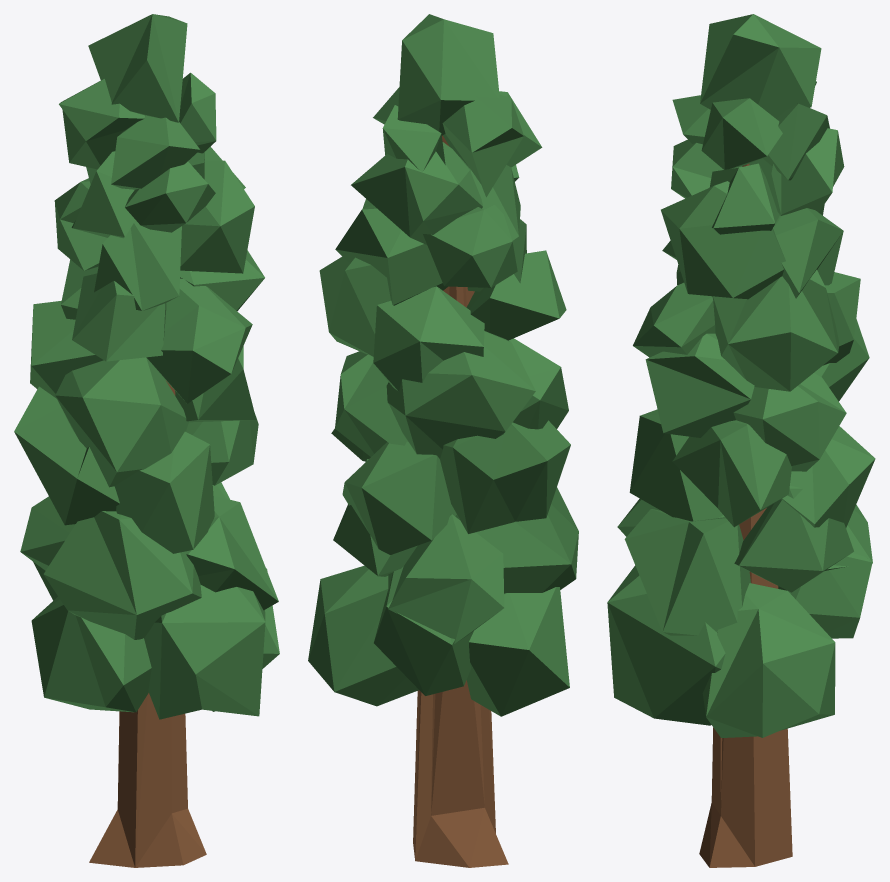
The model's file is tree_n2.glb.
The picture shows the model from 3 angles, left to right: view 1: azimuth 30°, elevation 25°; view 2: azimuth 150°, elevation 25°; view 3: azimuth 270°, elevation 25°; orthographic projection.
Parts seen in each view (by area): view 1: Object_34, Object_32; view 2: Object_34, Object_32; view 3: Object_34, Object_32.
Part boxes in pixels (<box>): Object_34: <box>14,14,279,719</box>; Object_32: <box>89,381,206,867</box>; Object_34: <box>308,14,578,716</box>; Object_32: <box>413,135,508,867</box>; Object_34: <box>607,14,875,737</box>; Object_32: <box>699,163,792,867</box>.
Bounding box in the file's own units: 3.31 × 10.96 × 3.18.
